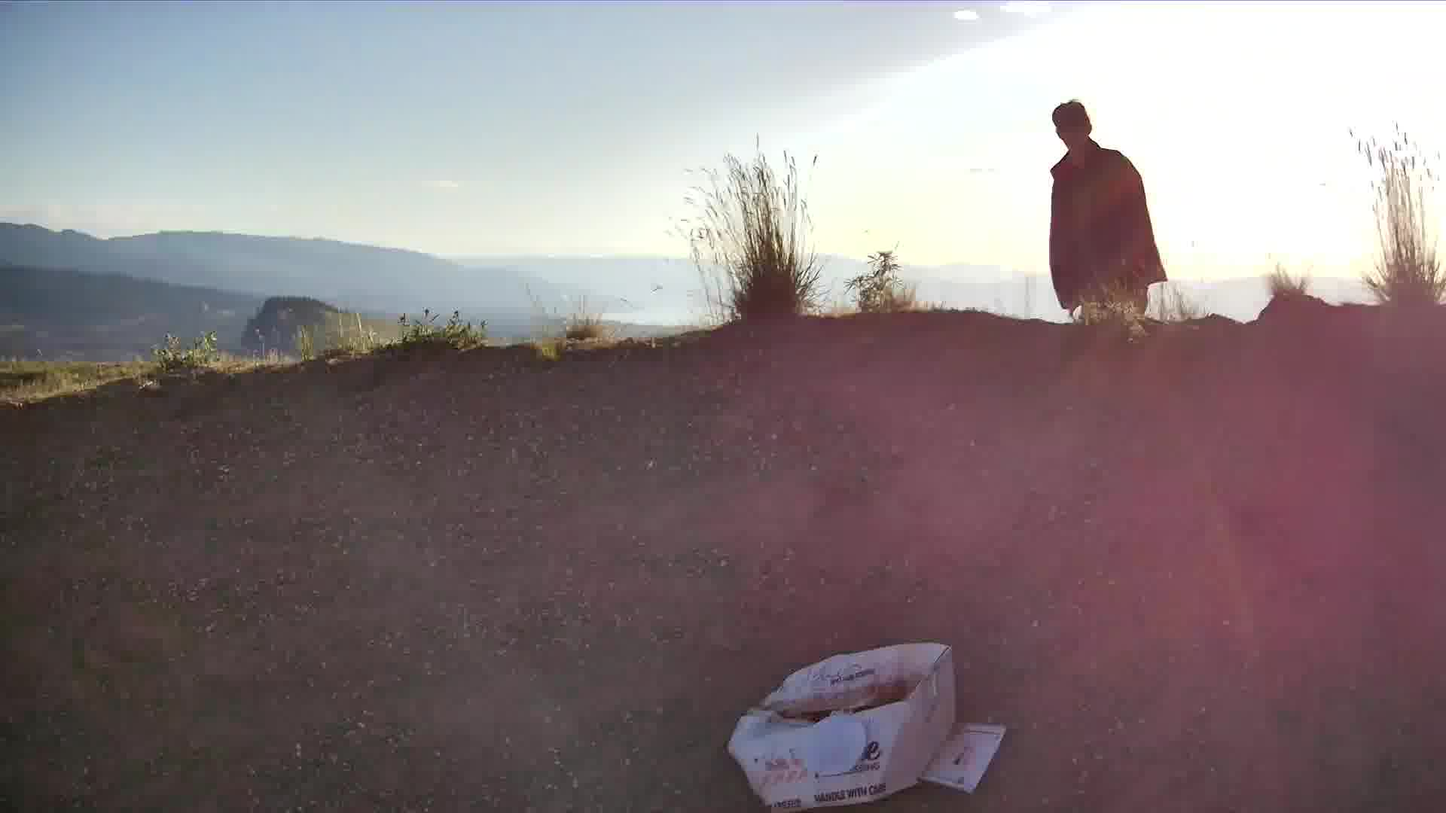Target: (805, 719, 866, 774)
